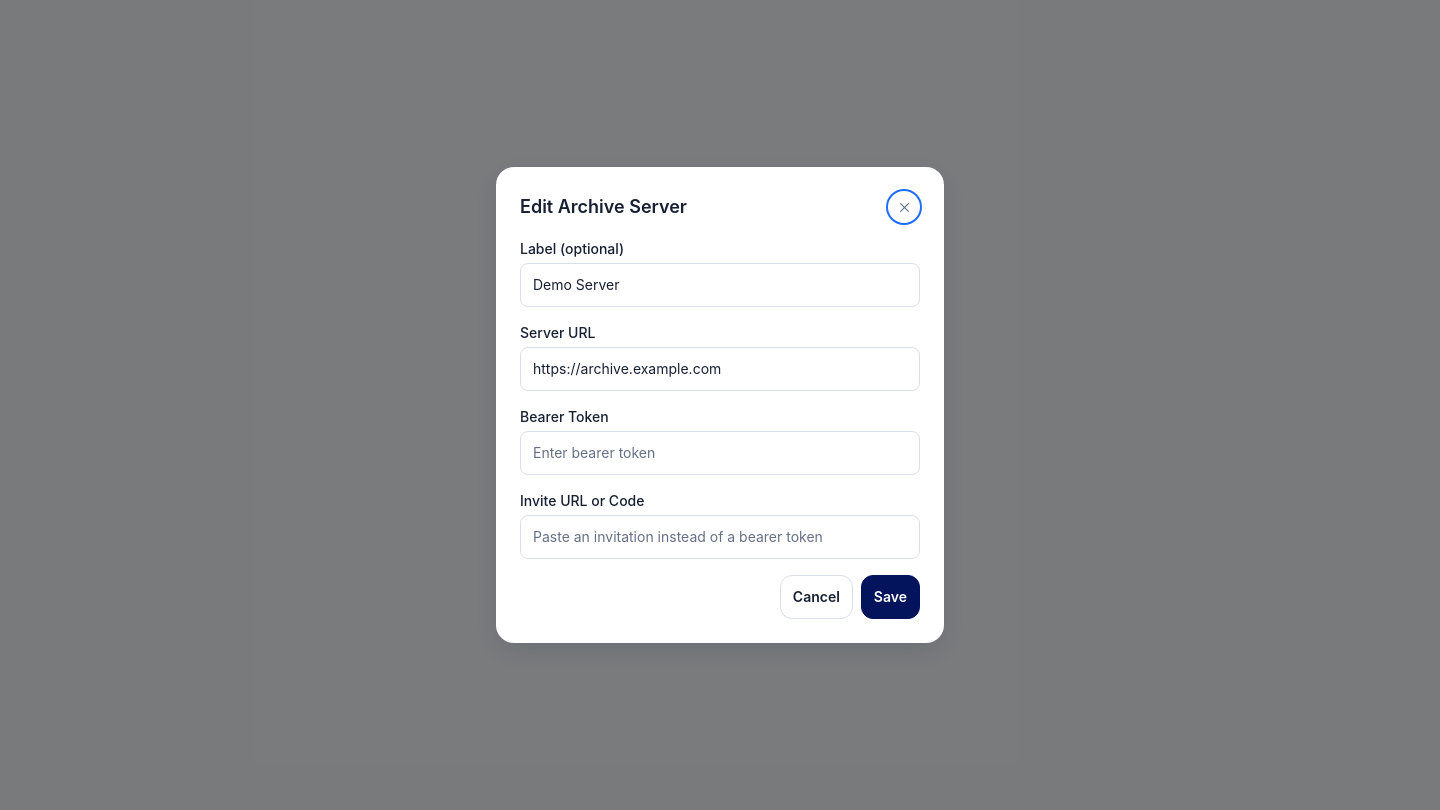
Test: EditArchiveServerDialog › requires a fresh credential before activating a changed archive URL
The width and height of the screenshot is (1440, 810).
Type "https://new-archive.example.com" into the field labelled "Server URL" at (720, 369), box [520,347,920,391]
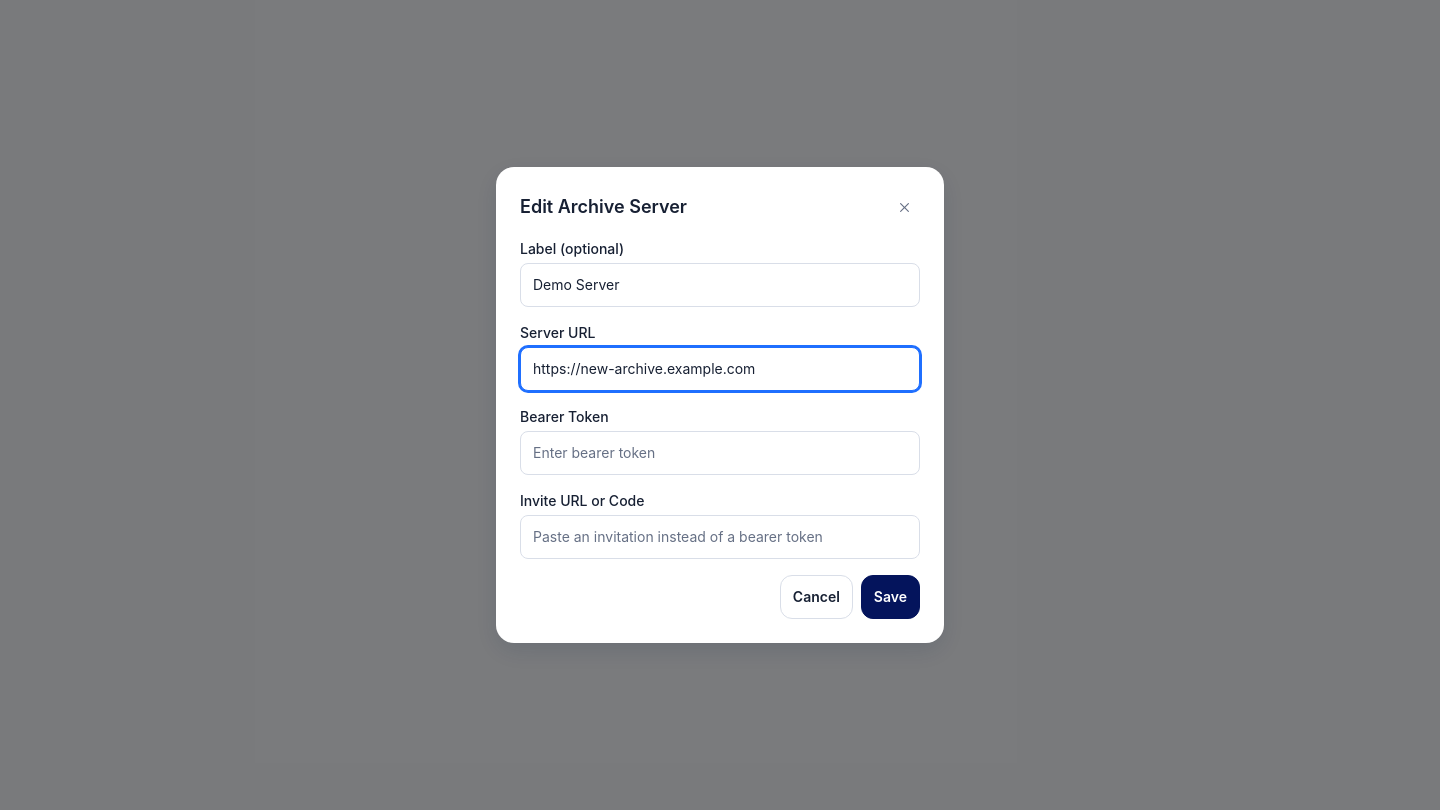
Click the button "Save" at (890, 597), box [861,575,920,619]
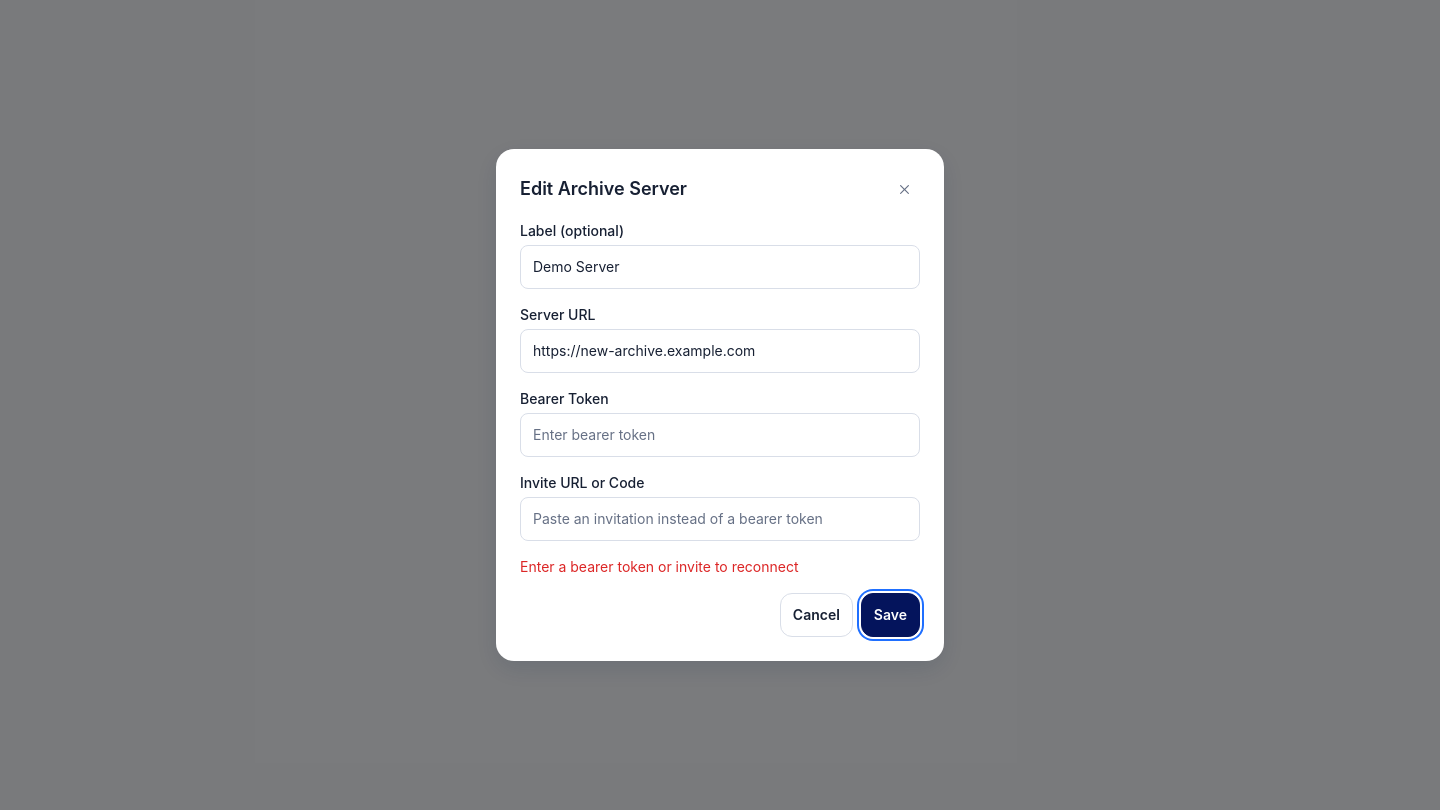
Expected: the text "Enter a bearer token or invite to reconnect" is shown, [520,558,798,575]
